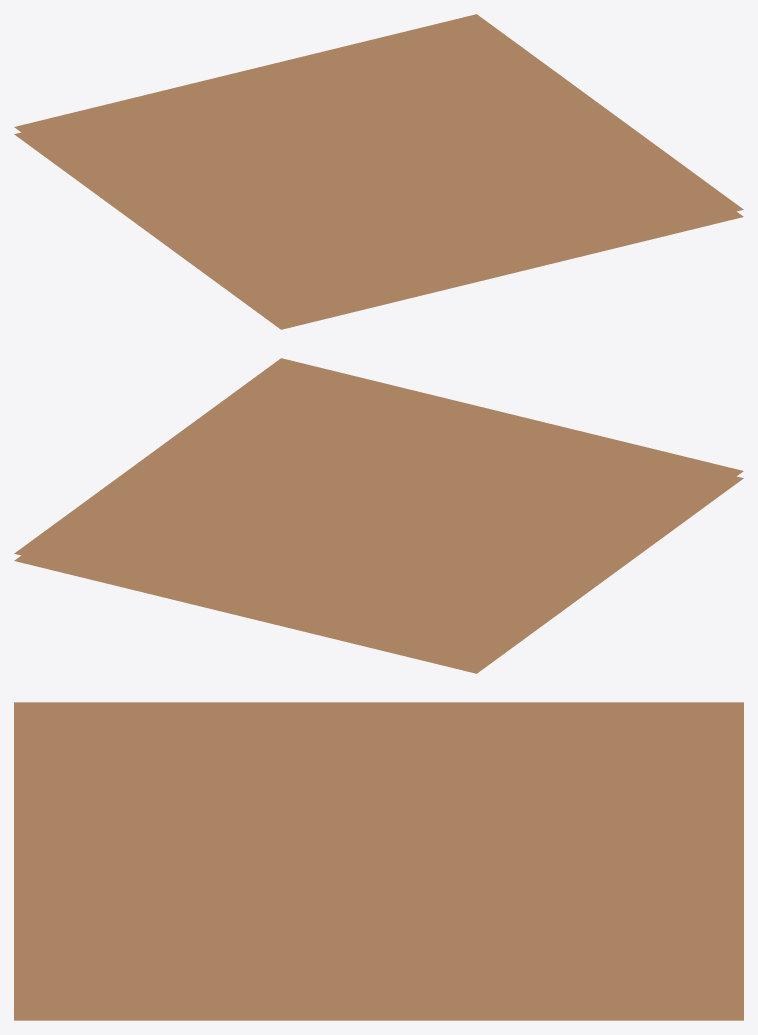
Rendered from mid_watered_soil_tile_full.fbx.
3 views of the same model, one above another, from view 1: azimuth 30°, elevation 25°; view 2: azimuth 150°, elevation 25°; view 3: azimuth 270°, elevation 25° (orthographic). The views are drawn at different scales.
Parts seen in each view (by area): view 1: _Watered_Corner_fuLL; view 2: _Watered_Corner_fuLL; view 3: _Watered_Corner_fuLL.
Boxes of the visible parts, box(x1,y1,x2,y2) form: _Watered_Corner_fuLL: box(14, 14, 743, 329); _Watered_Corner_fuLL: box(14, 358, 743, 673); _Watered_Corner_fuLL: box(14, 702, 743, 1020).
Bounding box in the file's own units: 0.998 × 0.998 × 0.0149.
